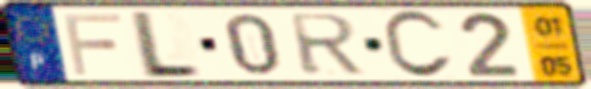0: (220, 12, 285, 78)
2: (459, 10, 528, 80)
C: (379, 7, 457, 81)
F: (60, 11, 125, 77)
L: (130, 8, 204, 80)
R: (285, 11, 367, 77)
